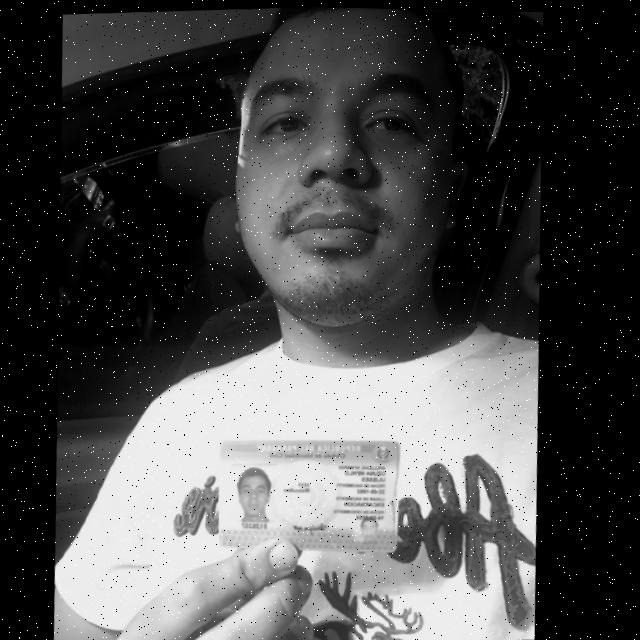card: (218, 440, 399, 552)
